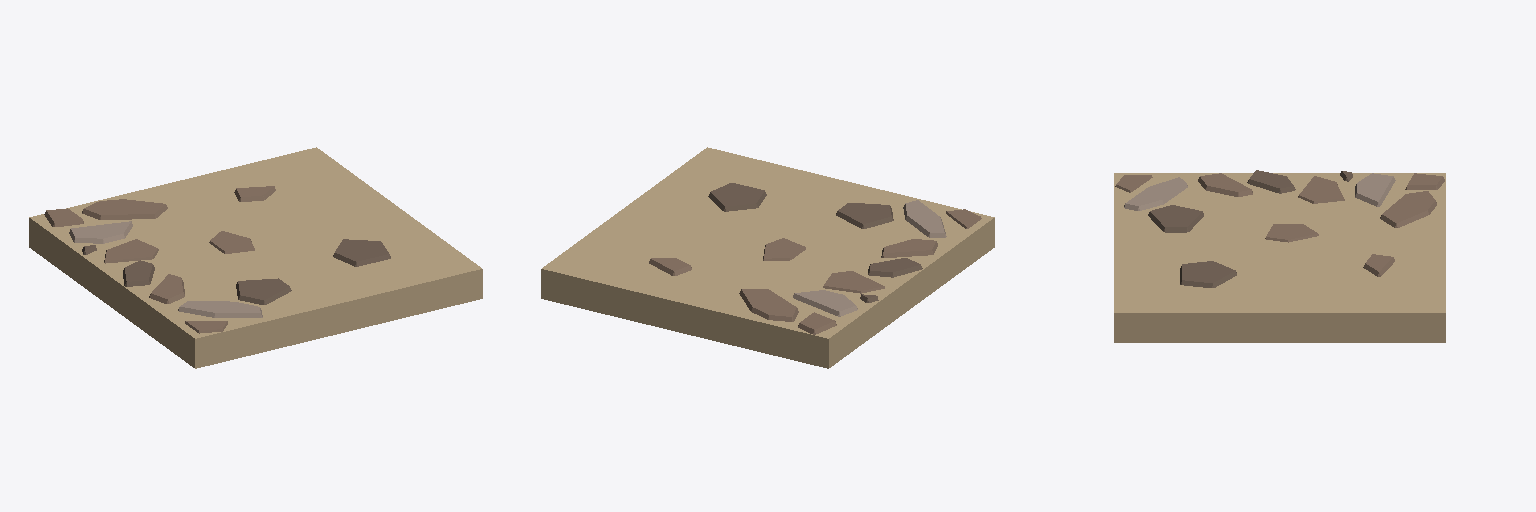
File: Cobblestone_Dirt_Transition_1.obj
3 renders of one model, left to right at view 1: azimuth 30°, elevation 25°; view 2: azimuth 150°, elevation 25°; view 3: azimuth 270°, elevation 25°, orthographic.
Parts seen in each view (by area): view 1: object1; view 2: object1; view 3: object1.
Part boxes in pixels (bbox=[...]): object1: bbox=[29, 147, 482, 368]; object1: bbox=[541, 147, 994, 368]; object1: bbox=[1114, 170, 1445, 342].
Bounding box in the file's own units: 2 × 0.2281 × 2.